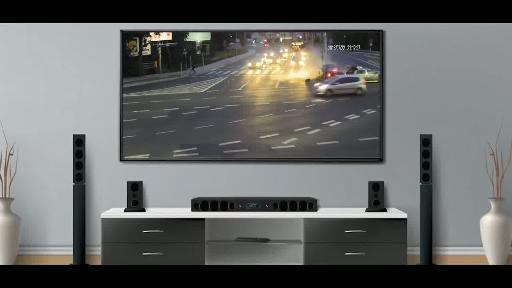Accident: (228, 46, 381, 113)
